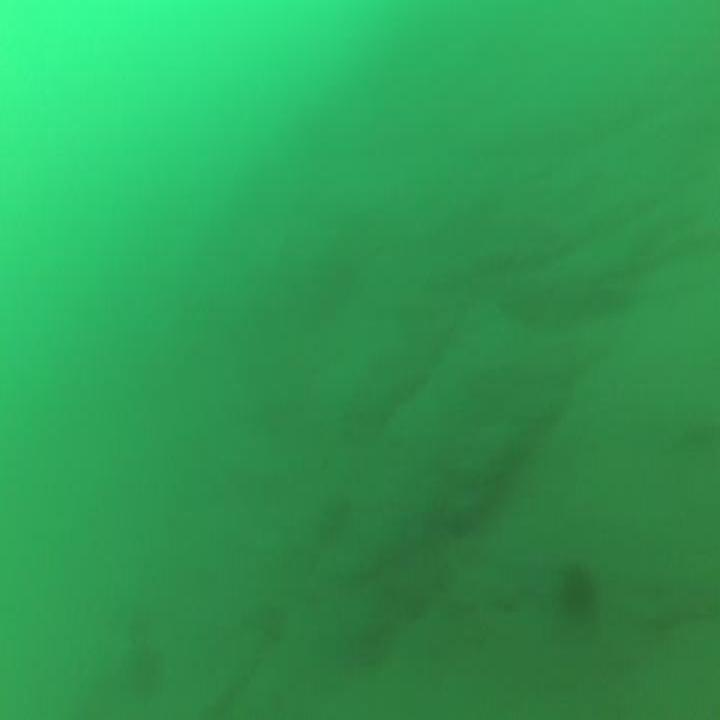echinus: (558, 553, 596, 626)
